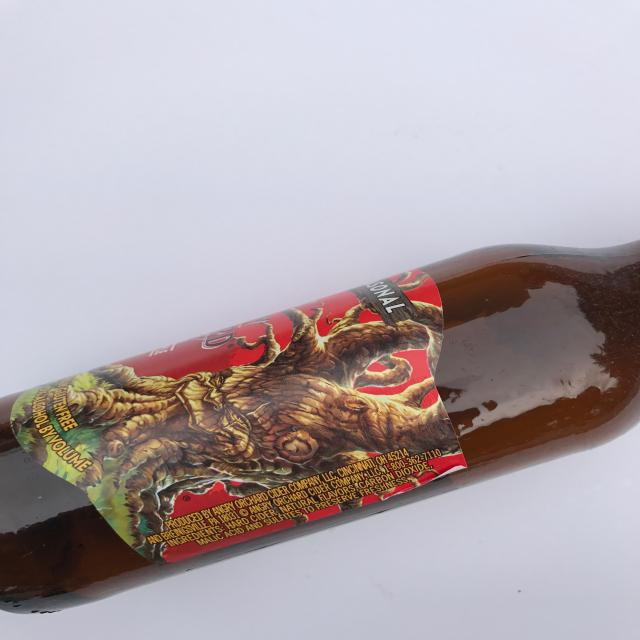glass: (1, 239, 639, 613)
